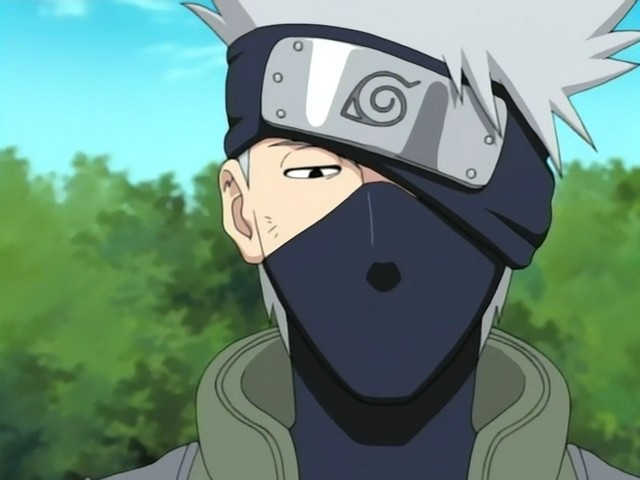kakashi: (216, 19, 557, 410)
